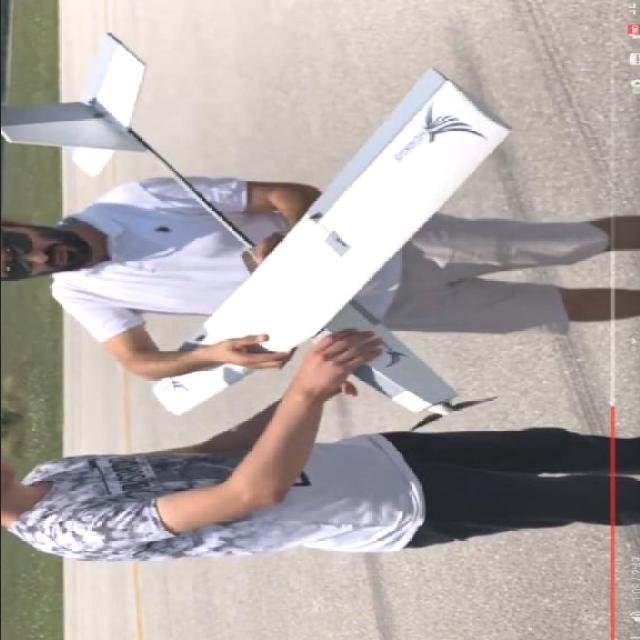plane: (0, 30, 509, 436)
